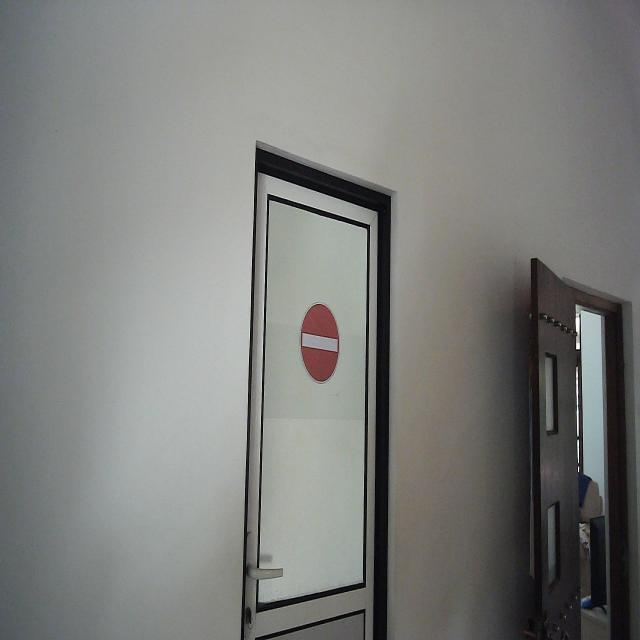no_entry: (298, 300, 342, 386)
